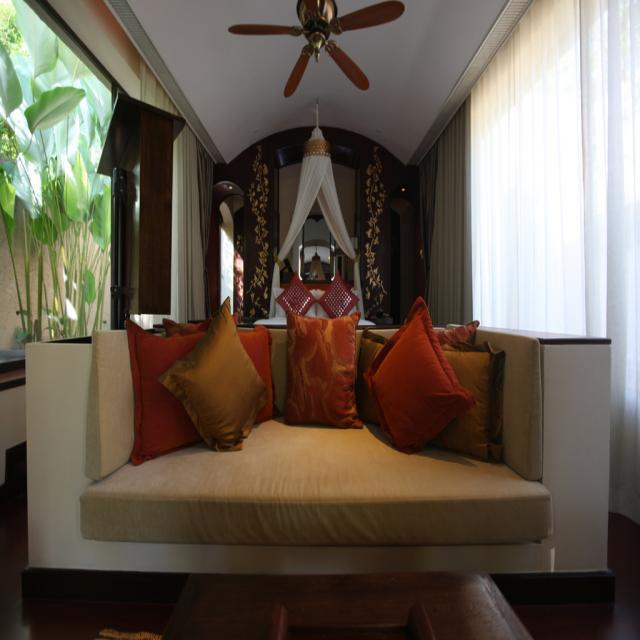fan_off: (224, 0, 405, 96)
